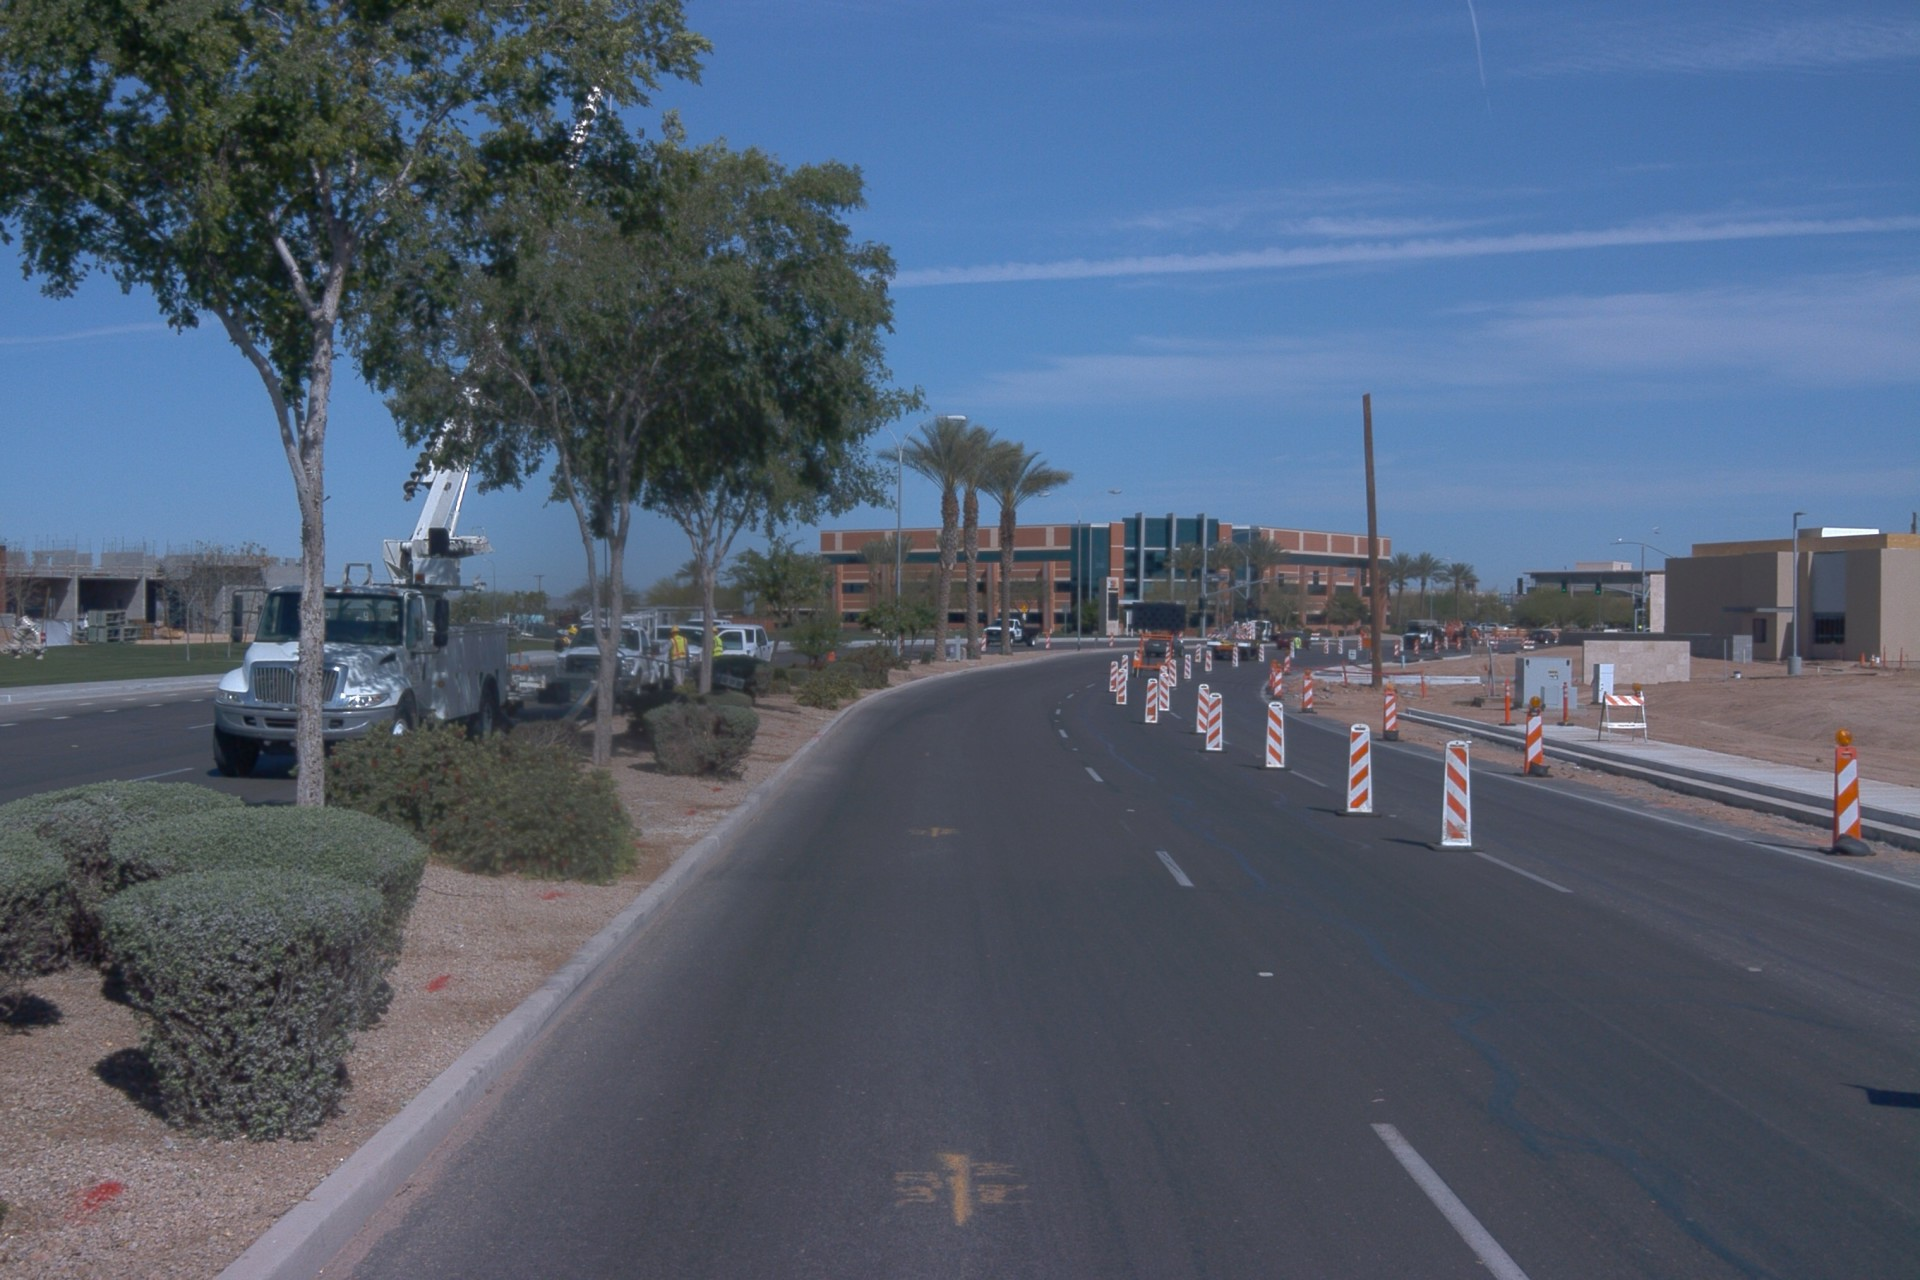TYPE_PEDESTRIAN: (651, 626, 693, 689), (712, 627, 726, 659), (1293, 632, 1302, 663)
TYPE_VEHICLE: (200, 35, 622, 779), (514, 619, 772, 752), (551, 611, 680, 701), (530, 602, 643, 673), (1121, 597, 1193, 687), (644, 620, 719, 693), (1205, 613, 1279, 668), (1398, 616, 1491, 655), (714, 620, 779, 673), (976, 612, 1046, 658), (1247, 617, 1312, 648), (1275, 628, 1317, 657), (1143, 636, 1186, 657), (686, 617, 733, 629), (75, 615, 92, 633), (1210, 625, 1229, 640)
